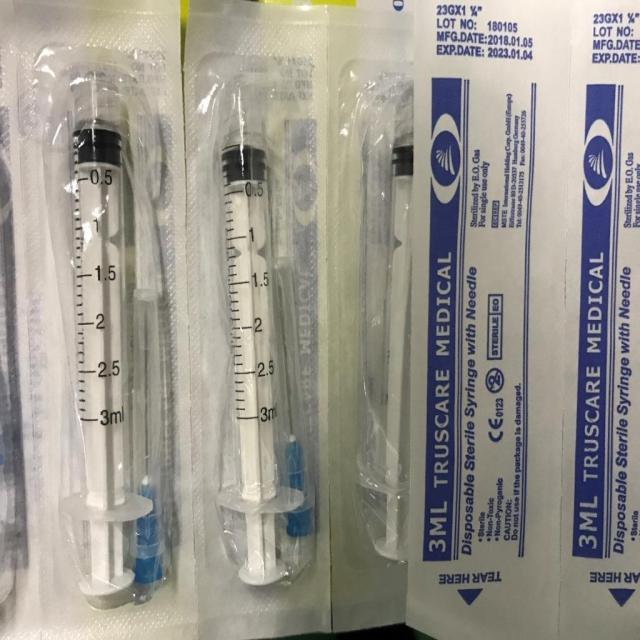B3: (2, 1, 194, 640), (182, 1, 336, 638), (324, 34, 418, 615)
